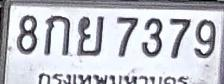3: (141, 17, 163, 57)
7: (116, 16, 138, 57), (169, 18, 191, 58)
8: (16, 14, 37, 54)
9: (194, 18, 216, 58)
A01: (43, 15, 70, 56)
A34: (76, 15, 104, 56)
